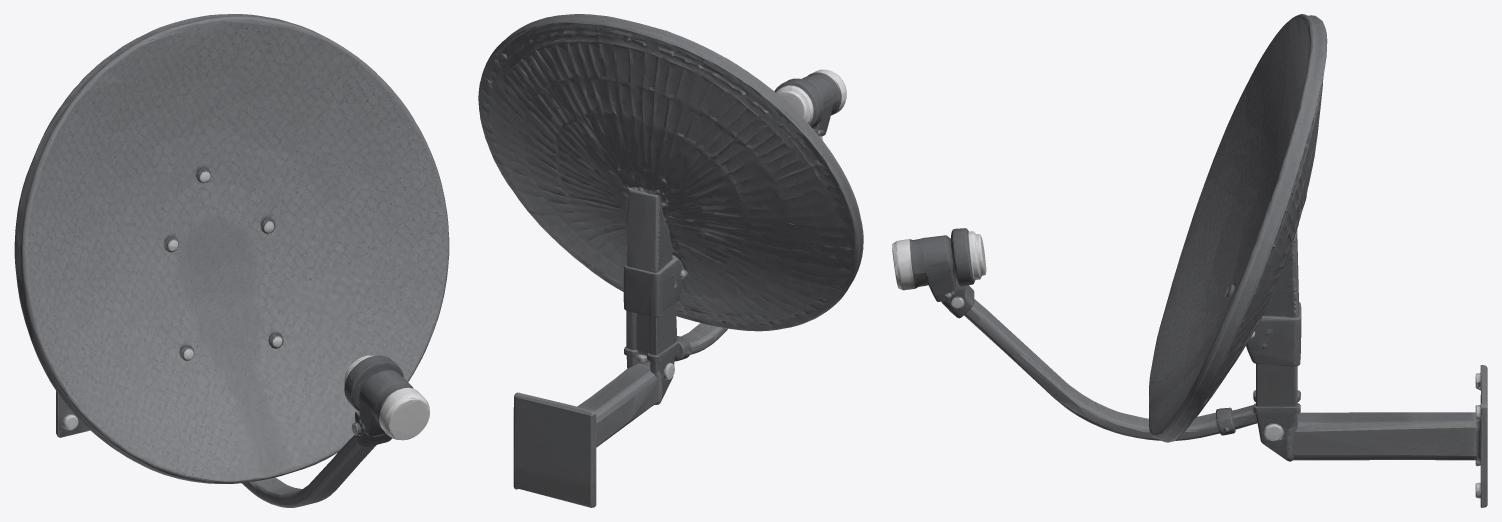
The model's file is prop_dish.glb.
3 renders of one model, left to right at view 1: azimuth 30°, elevation 25°; view 2: azimuth 150°, elevation 25°; view 3: azimuth 270°, elevation 25°, orthographic. The views are drawn at different scales.
Visible parts, largest first — view 1: Mesh_0; view 2: Mesh_0; view 3: Mesh_0.
Boxes of the visible parts, x1,y1,x2,y2 form: Mesh_0: [14, 14, 449, 507]; Mesh_0: [478, 14, 863, 507]; Mesh_0: [892, 14, 1487, 507].
Size of the model in its own units: 1.47 by 1.58 by 1.9.
Materials: 1 (1 with a texture image).
